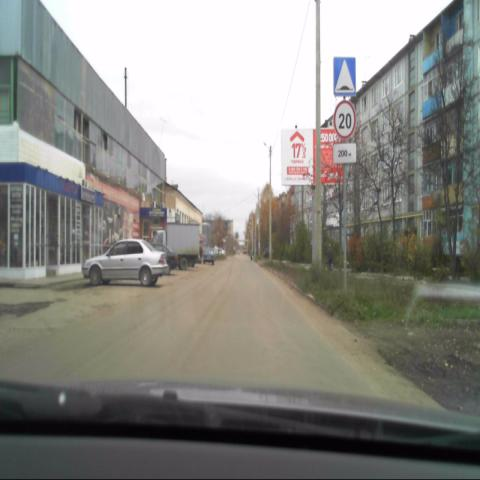8_1_1: (334, 142, 356, 164)
